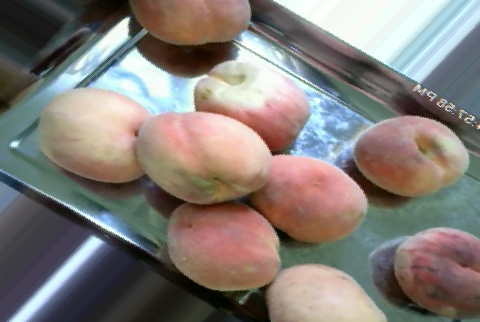Peach: (136, 110, 272, 203), (189, 56, 309, 152), (164, 199, 283, 292), (39, 88, 152, 181), (247, 155, 365, 243), (352, 114, 468, 197), (392, 226, 480, 317), (270, 263, 384, 321), (129, 0, 252, 44)
